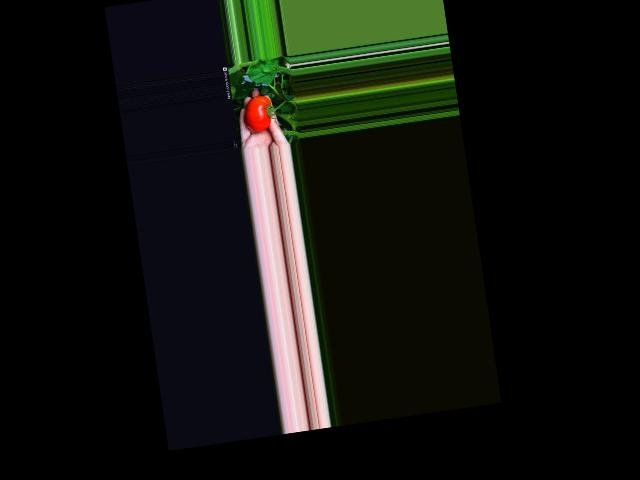tomato: (242, 94, 274, 134)
